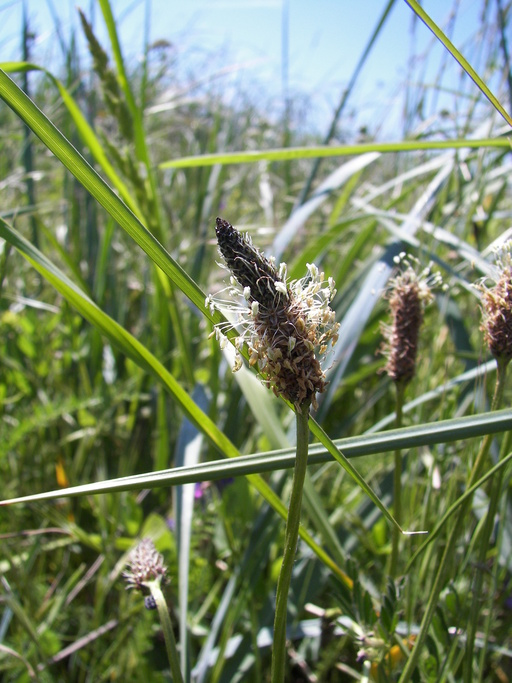buckhorn plantain: (171, 207, 356, 529), (368, 241, 430, 507), (455, 225, 512, 409)
